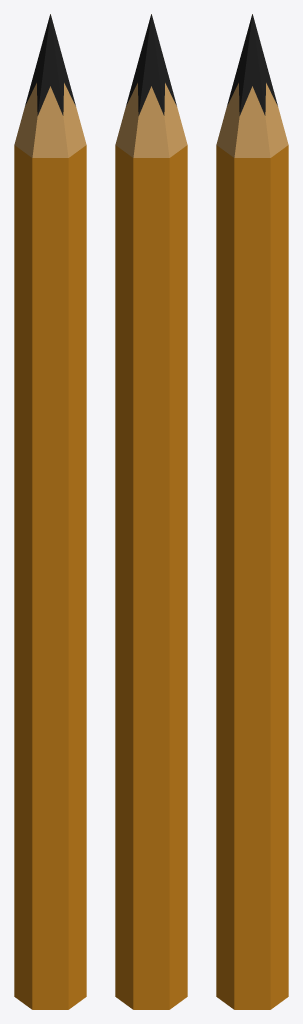
Rendered from Pencil.fbx.
3 views of the same model, side by side, from view 1: azimuth 90°, elevation 25°; view 2: azimuth 150°, elevation 25°; view 3: azimuth 270°, elevation 25° (orthographic).
Visible parts, largest first — view 1: Cylinder; view 2: Cylinder; view 3: Cylinder.
Boxes of the visible parts, box(x1,y1,x2,y2) form: Cylinder: box(14, 14, 86, 1009); Cylinder: box(115, 14, 187, 1009); Cylinder: box(216, 14, 288, 1009).
Size of the model in its own units: 0.866 by 15 by 1.
